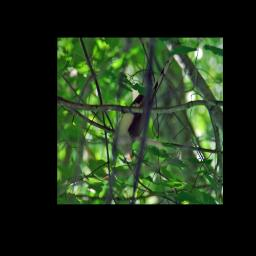Cuckoo: (114, 53, 178, 163)
